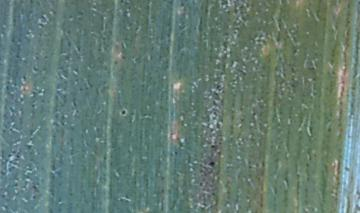tarspot: (206, 160, 218, 169), (120, 108, 127, 117), (31, 194, 38, 201), (209, 144, 216, 150), (172, 150, 178, 156), (14, 154, 20, 159), (119, 1, 125, 4)
